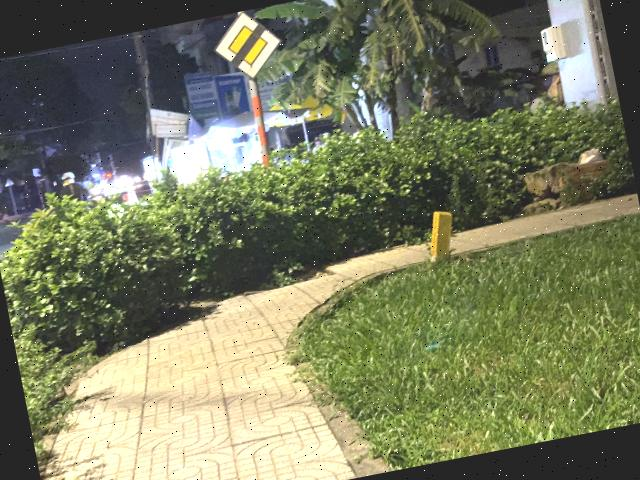het-duong-uu-tien: (206, 4, 289, 86)
